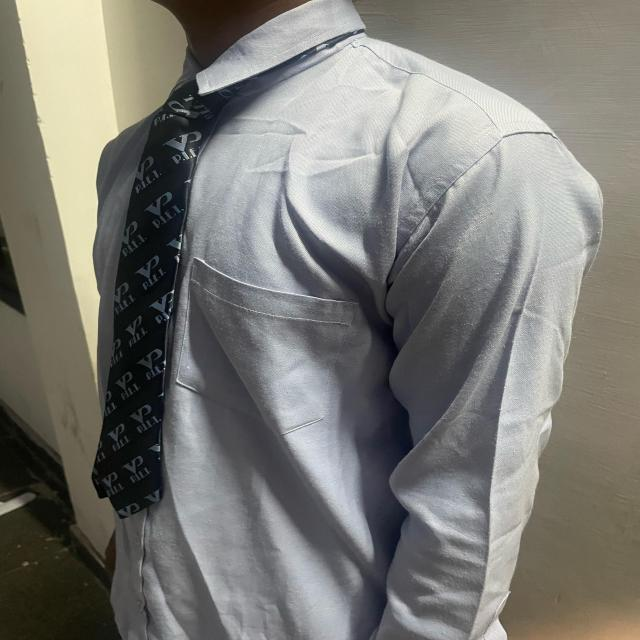Tie: (90, 28, 367, 519)
uniform: (90, 1, 604, 639)
